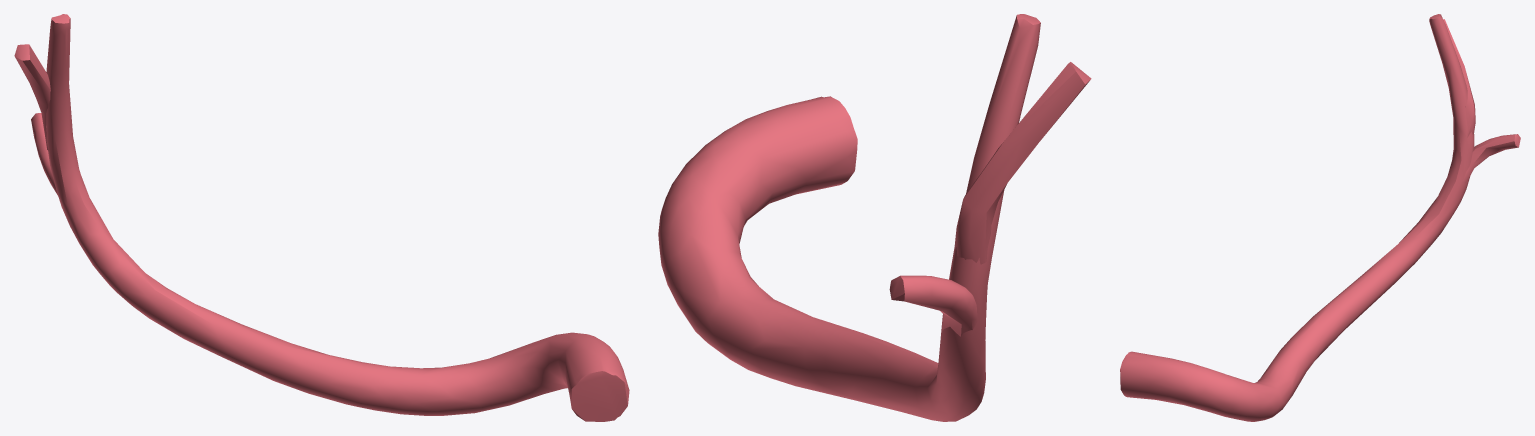
The model's file is fma68670_cx176.glb.
The picture shows the model from 3 angles, left to right: view 1: azimuth 30°, elevation 25°; view 2: azimuth 150°, elevation 25°; view 3: azimuth 270°, elevation 25°; orthographic projection. The views are drawn at different scales.
Visible parts, largest first — view 1: FMA68670_CX176; view 2: FMA68670_CX176; view 3: FMA68670_CX176.
Part boxes in pixels (left/top/right/bottom): FMA68670_CX176: left=14, top=14, right=629, bottom=421; FMA68670_CX176: left=658, top=14, right=1091, bottom=421; FMA68670_CX176: left=1120, top=14, right=1520, bottom=421.
Size of the model in its own units: 0.0486 by 0.0417 by 0.0521.
